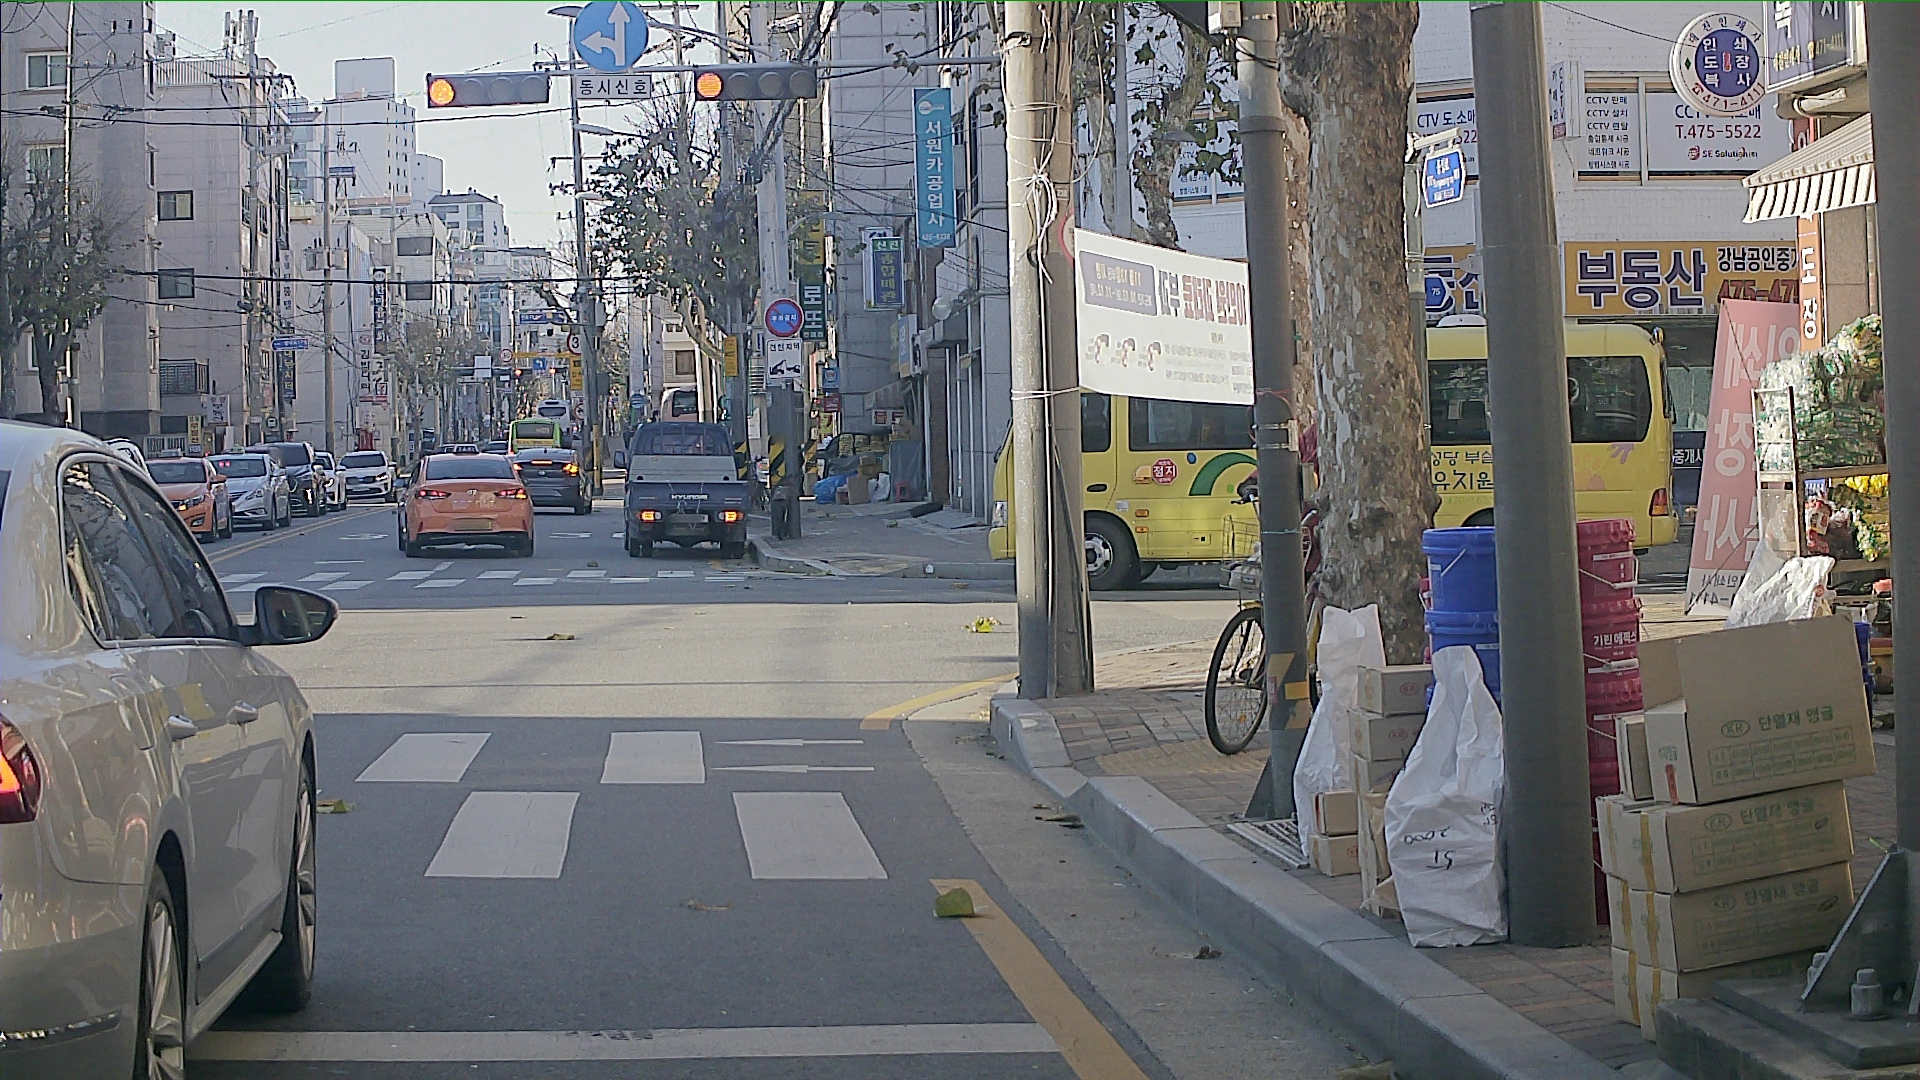trafficLight: (423, 69, 551, 109), (692, 66, 818, 105)
trafficSignCircle: (574, 1, 655, 73), (761, 294, 800, 335)
